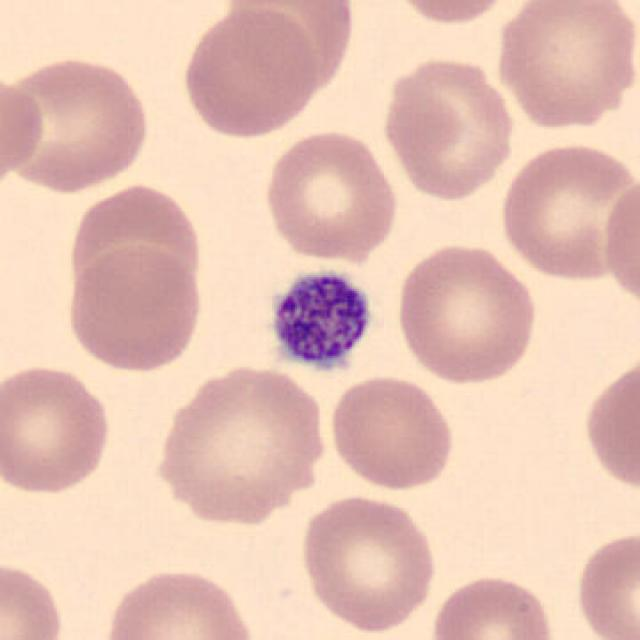Platelets: (261, 262, 377, 376)
RBC: (149, 360, 331, 527), (391, 238, 542, 386), (1, 51, 154, 196), (377, 51, 519, 205), (295, 490, 441, 635), (496, 137, 636, 284), (259, 125, 402, 266), (178, 4, 320, 141), (491, 0, 638, 132), (62, 240, 206, 374), (62, 178, 208, 305), (325, 370, 459, 494), (0, 360, 116, 499), (224, 0, 361, 95), (98, 564, 260, 640), (427, 571, 560, 640), (580, 349, 638, 497), (571, 527, 638, 640), (599, 168, 640, 318), (0, 69, 48, 194), (0, 555, 68, 640), (382, 0, 524, 28)
